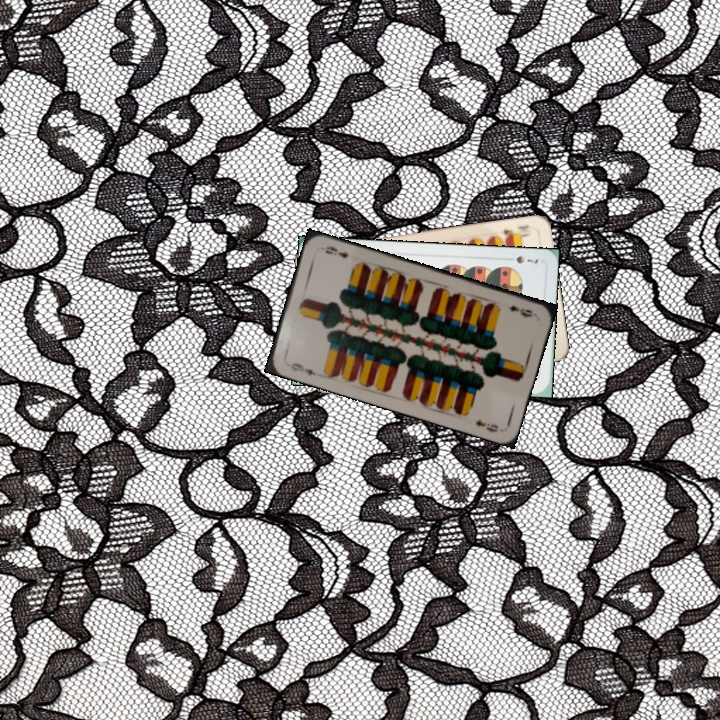E10: (499, 221, 533, 242)
E9: (287, 359, 322, 379), (505, 301, 538, 320)
S7: (502, 252, 541, 266)
